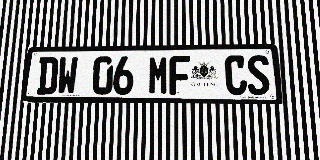0: (92, 56, 113, 95)
6: (113, 56, 134, 95)
C: (224, 55, 247, 95)
D: (36, 57, 59, 95)
F: (169, 56, 190, 95)
M: (148, 56, 169, 95)
S: (246, 55, 270, 95)
W: (56, 57, 78, 95)
